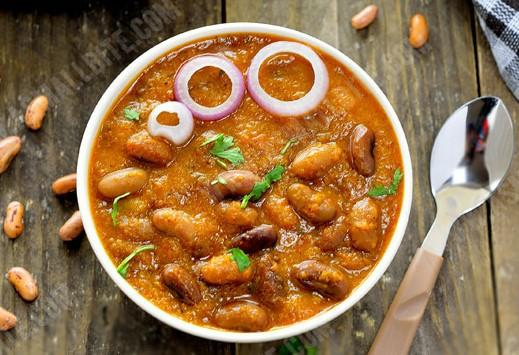RajmaCurry: (90, 32, 400, 330)
